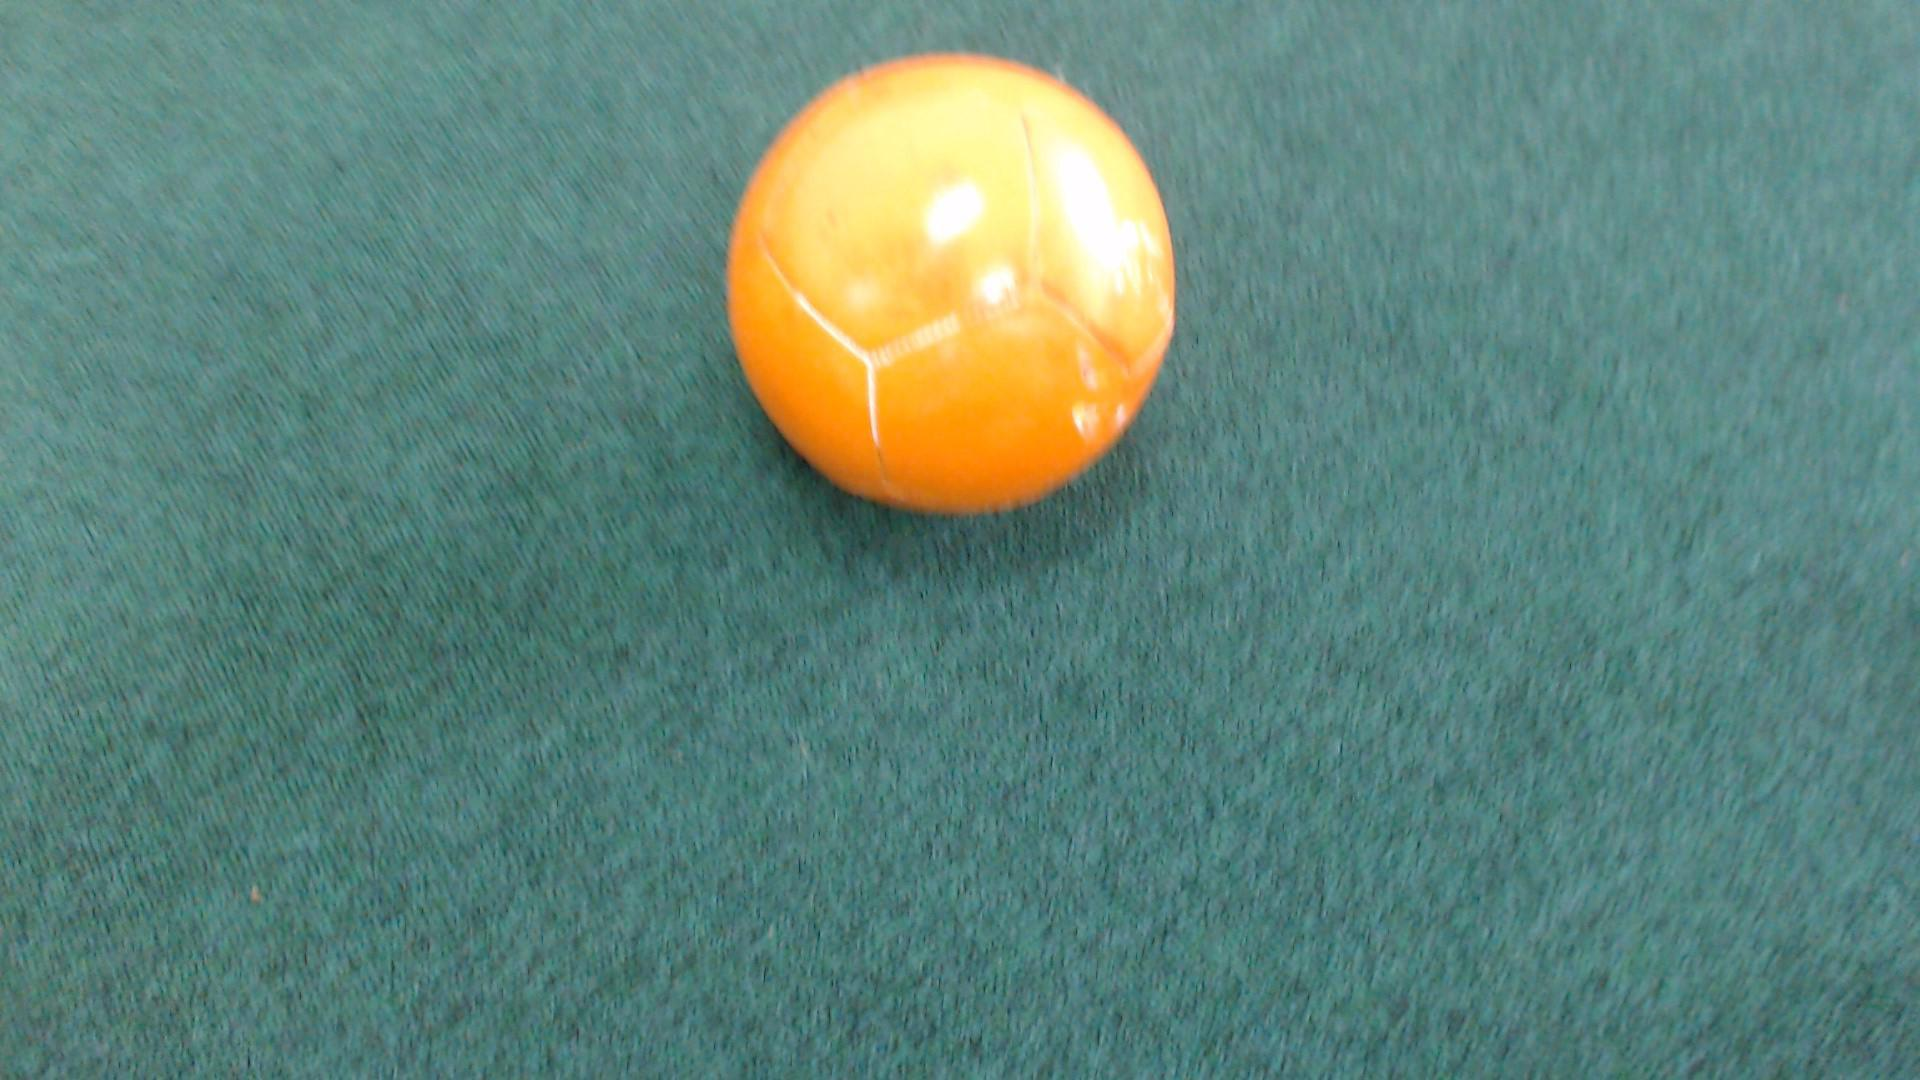bola: (695, 22, 1228, 546)
